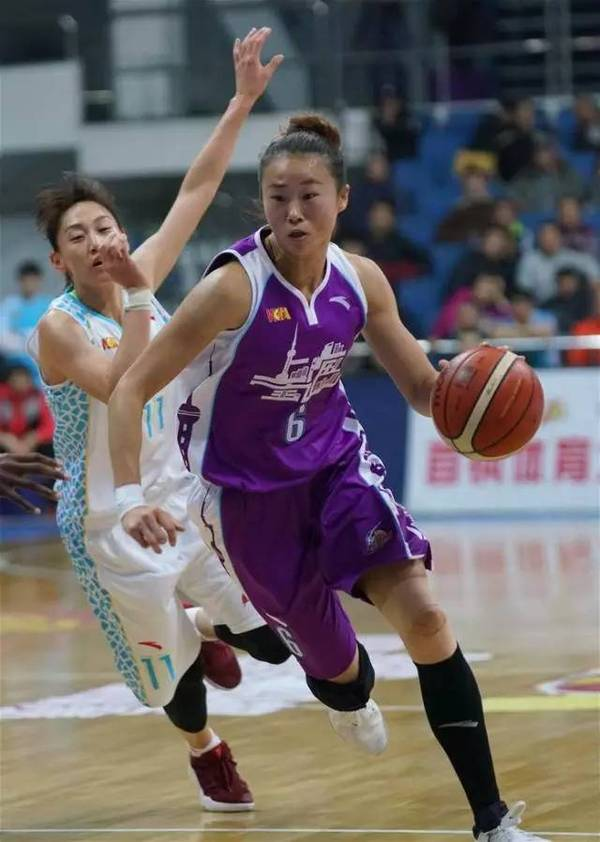ball: (432, 348, 545, 461)
